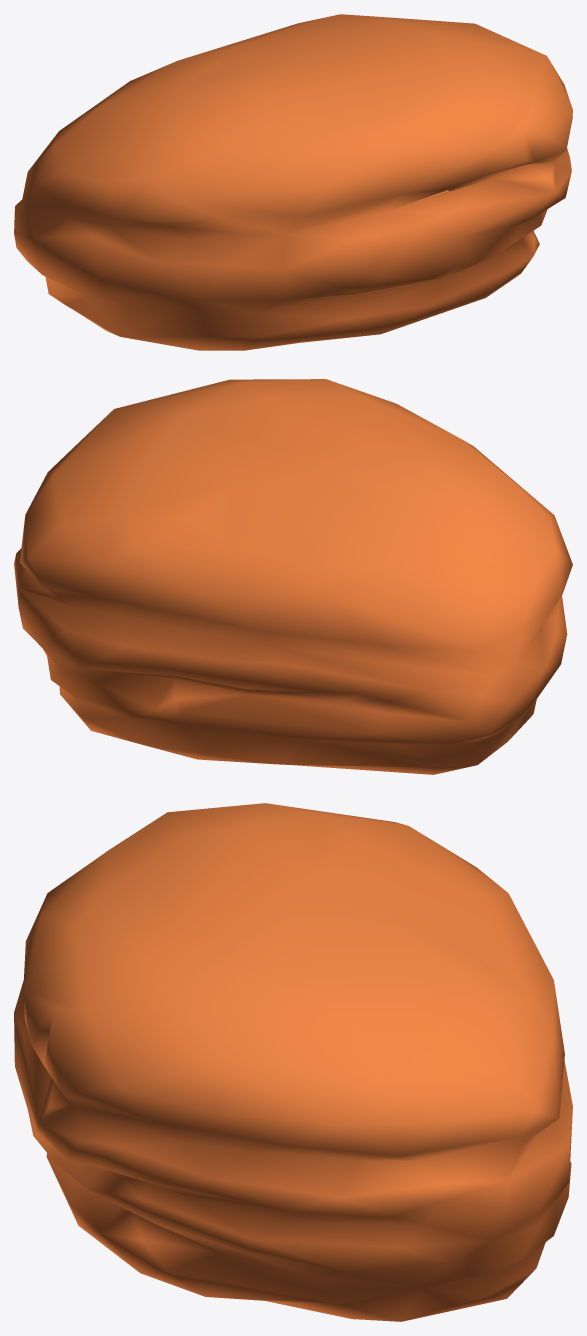
Rendered from Rock5.fbx.
The picture shows the model from 3 angles, top to bottom: view 1: azimuth 30°, elevation 25°; view 2: azimuth 150°, elevation 25°; view 3: azimuth 270°, elevation 25°; orthographic projection. The views are drawn at different scales.
Visible parts, largest first — view 1: pasted__Plane.040; view 2: pasted__Plane.040; view 3: pasted__Plane.040.
Part boxes in pixels (box(x1,y1,x2,y2)): pasted__Plane.040: box(14, 14, 572, 350); pasted__Plane.040: box(14, 379, 572, 774); pasted__Plane.040: box(14, 803, 572, 1321).
Size of the model in its own units: 349 by 179 by 254.
